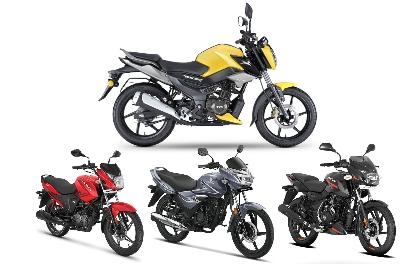bike: (100, 2, 318, 148), (141, 144, 280, 258), (276, 142, 404, 258), (26, 144, 148, 260)
